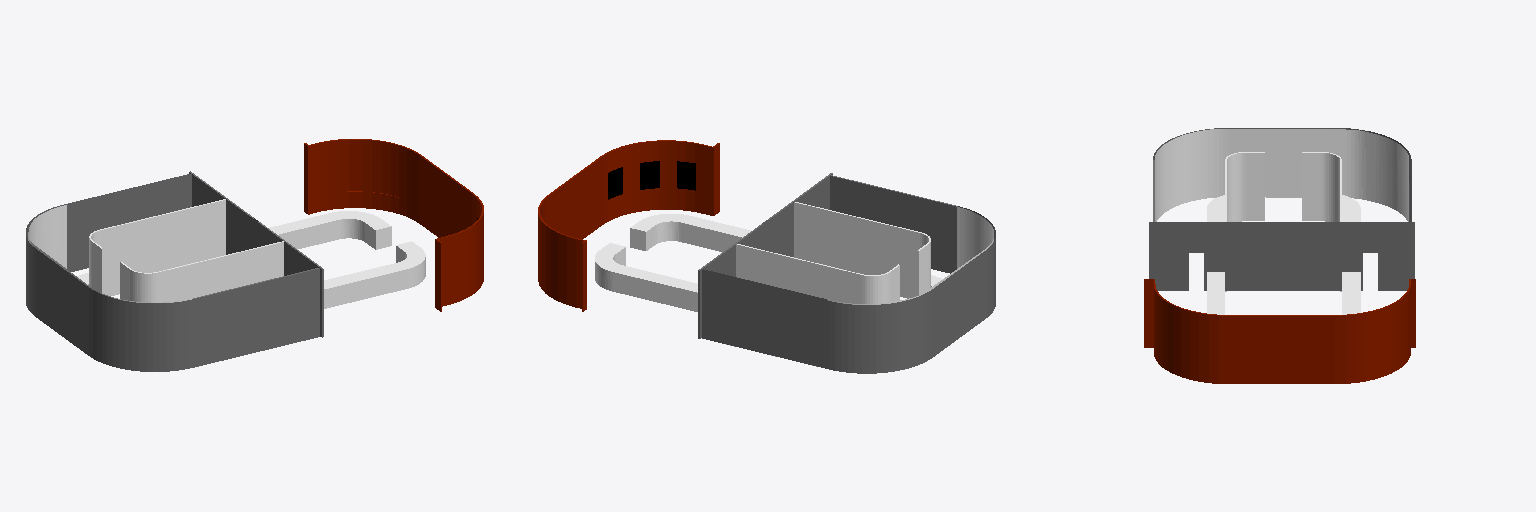
The model's file is 3dpianotipoprova.obj.
3 views of the same model, side by side, from view 1: azimuth 30°, elevation 25°; view 2: azimuth 150°, elevation 25°; view 3: azimuth 270°, elevation 25° (orthographic).
Parts seen in each view (by area): view 1: __175453_, Gruppo_22__175150_, __14828_, Gruppo_43__175151_, __12966_, Gruppo_8__12844_, Gruppo_18__196100_, Gruppo_5__181375_, Gruppo_12__12845_, Gruppo_665__15348_, __176189_; view 2: __175453_, Gruppo_43__175151_, __12966_, Gruppo_22__175150_, __14828_, Gruppo_12__12845_, Gruppo_18__196100_, Gruppo_5__181375_, Gruppo_8__12844_, __176189_, Gruppo_667__13453_; view 3: Gruppo_18__196100_, __176189_, Gruppo_5__181375_, __12966_, __14828_, Gruppo_22__175150_, Gruppo_43__175151_, Gruppo_12__12845_, Gruppo_8__12844_, __175453_.
Part boxes in pixels (bbox=[...]): __175453_: bbox=[26, 174, 319, 371]; Gruppo_22__175150_: bbox=[89, 199, 225, 295]; __14828_: bbox=[304, 139, 420, 222]; Gruppo_43__175151_: bbox=[120, 241, 283, 302]; __12966_: bbox=[435, 194, 483, 311]; Gruppo_8__12844_: bbox=[324, 241, 425, 308]; Gruppo_18__196100_: bbox=[189, 171, 323, 337]; Gruppo_5__181375_: bbox=[419, 155, 473, 237]; Gruppo_12__12845_: bbox=[269, 211, 391, 249]; Gruppo_665__15348_: bbox=[338, 154, 399, 198]; __176189_: bbox=[28, 205, 191, 302]; __175453_: bbox=[702, 175, 995, 373]; Gruppo_43__175151_: bbox=[794, 202, 930, 298]; __12966_: bbox=[602, 140, 719, 224]; Gruppo_22__175150_: bbox=[736, 244, 899, 303]; __14828_: bbox=[538, 195, 586, 311]; Gruppo_12__12845_: bbox=[595, 243, 697, 311]; Gruppo_18__196100_: bbox=[698, 173, 832, 338]; Gruppo_5__181375_: bbox=[549, 156, 602, 238]; Gruppo_8__12844_: bbox=[630, 214, 750, 251]; __176189_: bbox=[827, 207, 993, 304]; Gruppo_667__13453_: bbox=[640, 161, 659, 189]; Gruppo_18__196100_: bbox=[1149, 222, 1414, 290]; __176189_: bbox=[1155, 129, 1408, 221]; Gruppo_5__181375_: bbox=[1229, 315, 1334, 383]; __12966_: bbox=[1144, 279, 1228, 383]; __14828_: bbox=[1335, 279, 1415, 383]; Gruppo_22__175150_: bbox=[1302, 152, 1341, 291]; Gruppo_43__175151_: bbox=[1225, 152, 1264, 291]; Gruppo_12__12845_: bbox=[1342, 272, 1360, 314]; Gruppo_8__12844_: bbox=[1207, 272, 1224, 314]; __175453_: bbox=[1153, 128, 1411, 221].
Size of the model in its own units: 925 by 159 by 567.